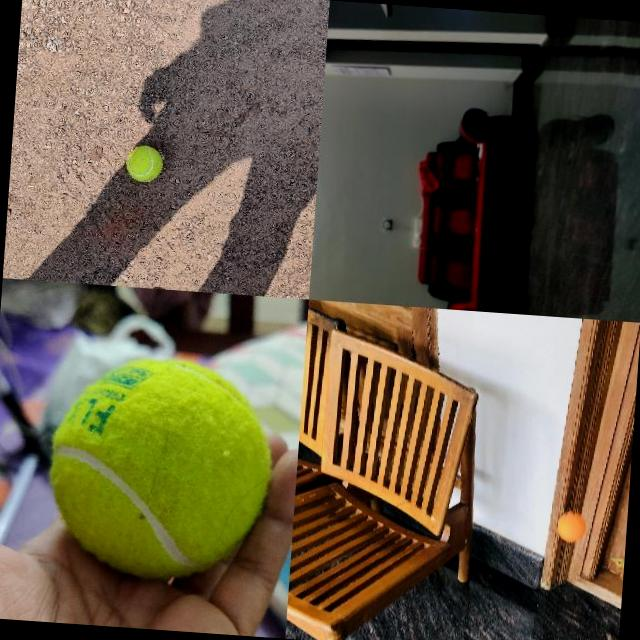Tennis Ball: (42, 352, 278, 587), (124, 144, 162, 182)
